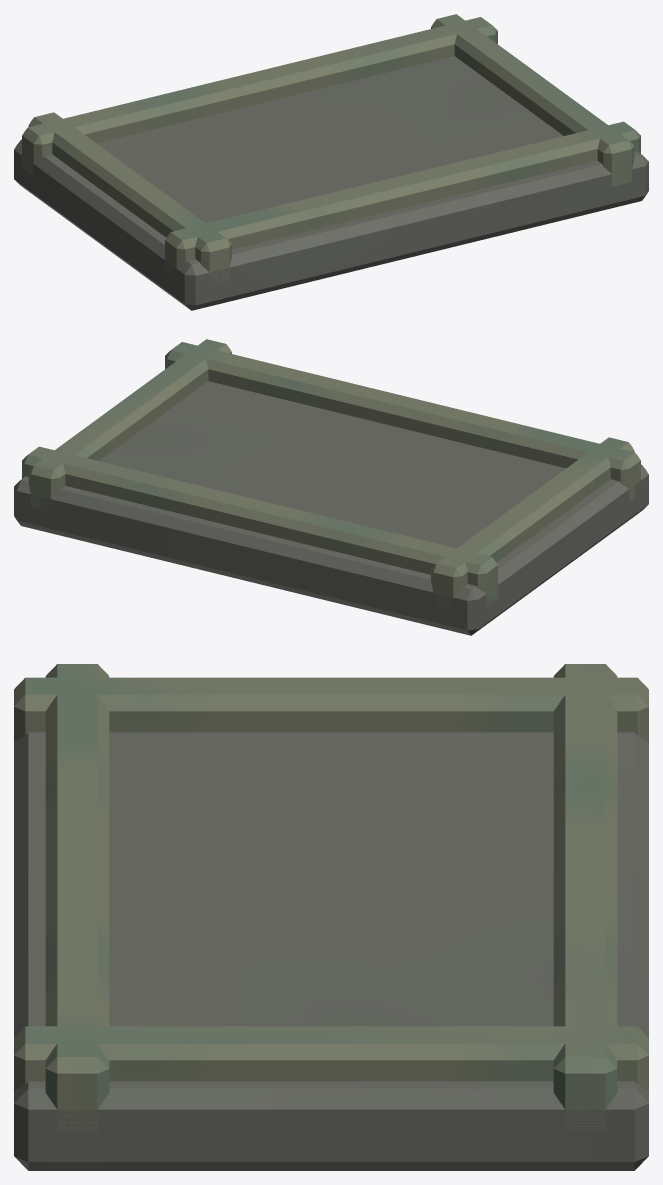
File: WarrensC_PWC22_TallowDripTray_Mars_SM.fbx
3 views of the same model, one above another, from view 1: azimuth 30°, elevation 25°; view 2: azimuth 150°, elevation 25°; view 3: azimuth 270°, elevation 25° (orthographic). The views are drawn at different scales.
Visible parts, largest first — view 1: WarrensC_PWC22_TallowDripTray_Mars_SM.001; view 2: WarrensC_PWC22_TallowDripTray_Mars_SM.001; view 3: WarrensC_PWC22_TallowDripTray_Mars_SM.001.
Boxes of the visible parts, left/top/right/bottom form: WarrensC_PWC22_TallowDripTray_Mars_SM.001: left=14, top=14, right=648, bottom=310; WarrensC_PWC22_TallowDripTray_Mars_SM.001: left=14, top=339, right=648, bottom=635; WarrensC_PWC22_TallowDripTray_Mars_SM.001: left=14, top=664, right=648, bottom=1170.
Bounding box in the file's own units: 60 × 40 × 8.
